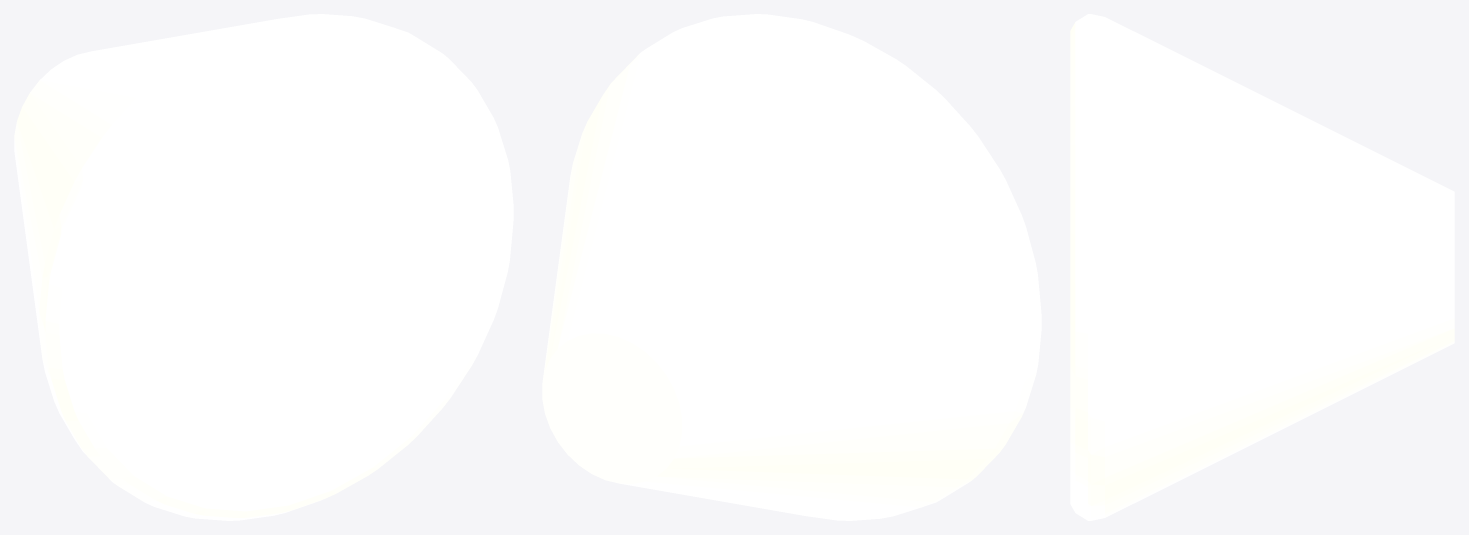
The model's file is gunFlash.glb.
3 views of the same model, side by side, from view 1: azimuth 30°, elevation 25°; view 2: azimuth 150°, elevation 25°; view 3: azimuth 270°, elevation 25° (orthographic). The views are drawn at different scales.
Visible parts, largest first — view 1: Cone; view 2: Cone; view 3: Cone.
Part boxes in pixels (bbox=[...]): Cone: bbox=[14, 14, 513, 520]; Cone: bbox=[542, 14, 1041, 520]; Cone: bbox=[1070, 14, 1454, 520].
Size of the model in its own units: 0.1391 by 0.1391 by 0.1053.
